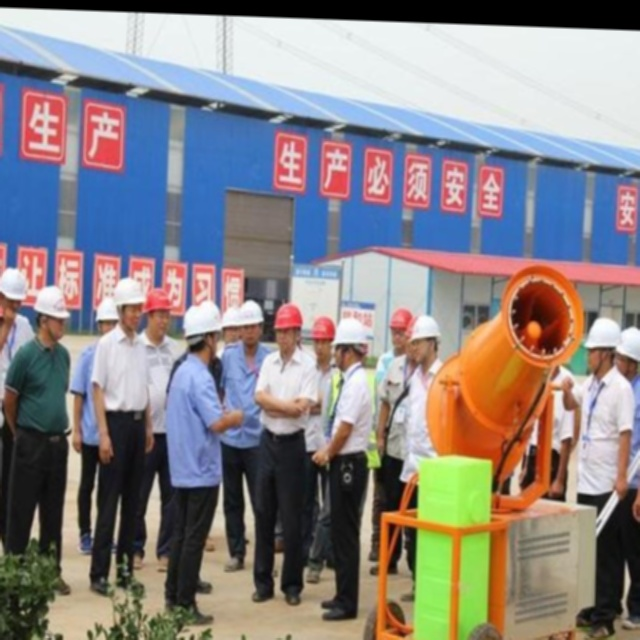Con_Casco: (272, 300, 304, 354)
